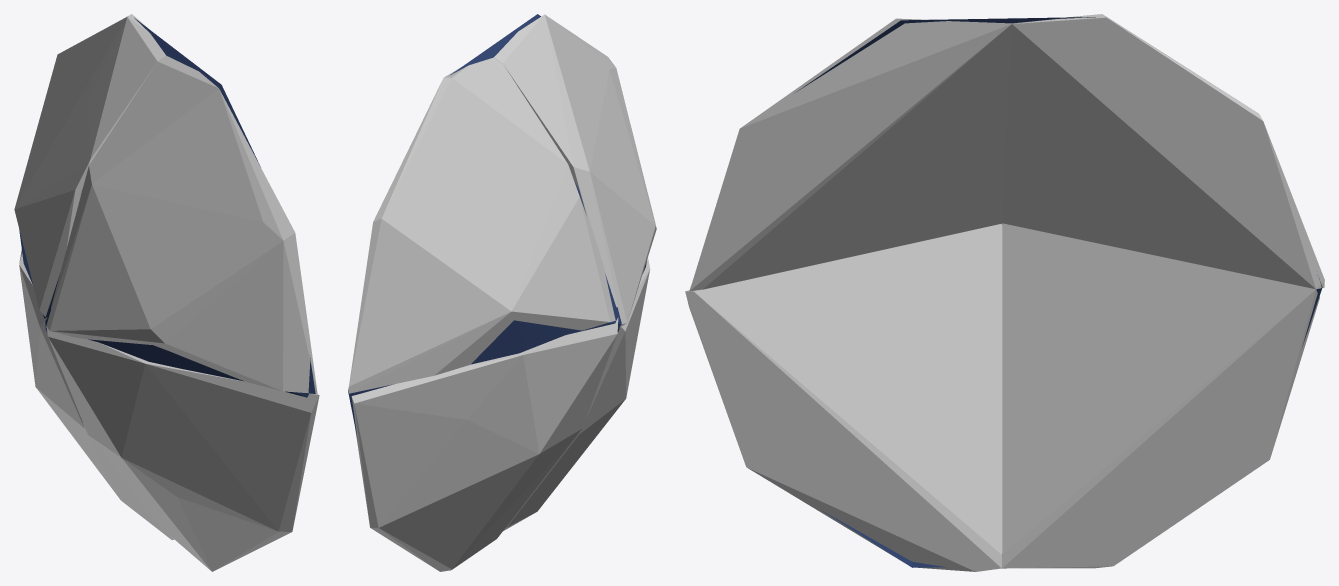
Rendered from SM_Prop_Telescope_01_scopeGlass_01.fbx.
3 renders of one model, left to right at view 1: azimuth 30°, elevation 25°; view 2: azimuth 150°, elevation 25°; view 3: azimuth 270°, elevation 25°, orthographic. The views are drawn at different scales.
Visible parts, largest first — view 1: SM_Prop_Telescope_01_scopeGlass_01_ConvexHulls, SM_Prop_Telescope_01_scopeGlass_01; view 2: SM_Prop_Telescope_01_scopeGlass_01_ConvexHulls, SM_Prop_Telescope_01_scopeGlass_01; view 3: SM_Prop_Telescope_01_scopeGlass_01_ConvexHulls, SM_Prop_Telescope_01_scopeGlass_01.
Boxes of the visible parts, x1,y1,x2,y2 form: SM_Prop_Telescope_01_scopeGlass_01_ConvexHulls: (14,14,319,571); SM_Prop_Telescope_01_scopeGlass_01: (19,18,315,397); SM_Prop_Telescope_01_scopeGlass_01_ConvexHulls: (348,14,656,571); SM_Prop_Telescope_01_scopeGlass_01: (348,14,646,438); SM_Prop_Telescope_01_scopeGlass_01_ConvexHulls: (685,14,1324,571); SM_Prop_Telescope_01_scopeGlass_01: (797,17,1322,567).
Bounding box in the file's own units: 9.31 × 34.66 × 33.14.
2 materials, 1 textured.
